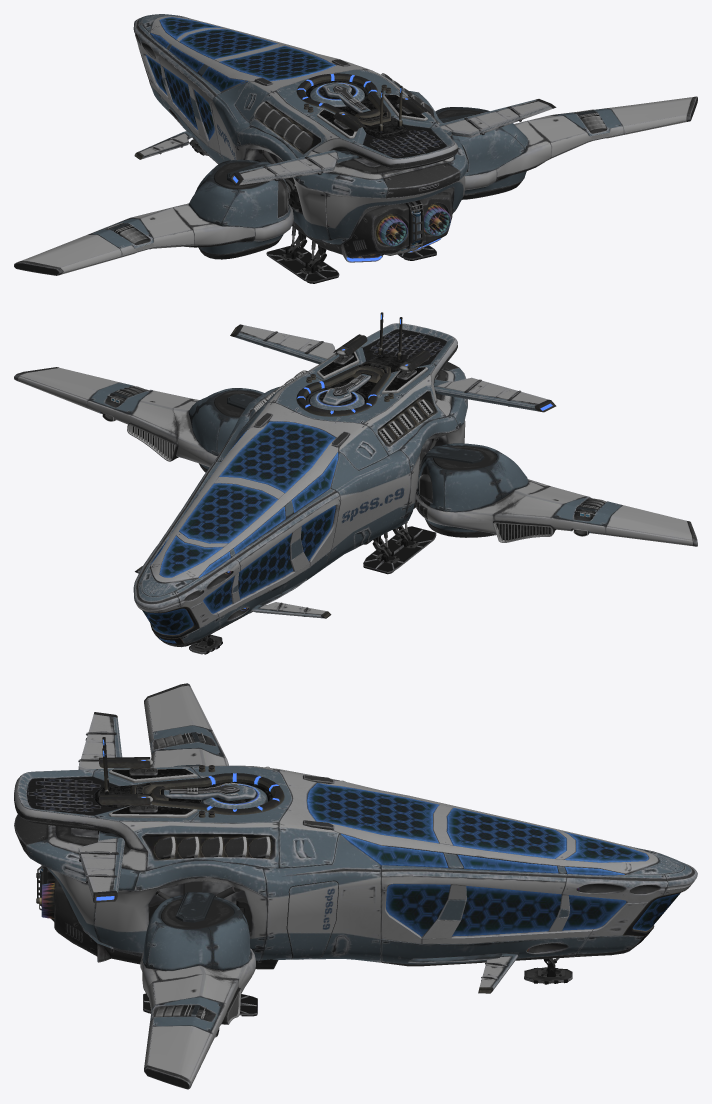
The model's file is spaceship-web.glb.
The picture shows the model from 3 angles, top to bottom: view 1: azimuth 30°, elevation 25°; view 2: azimuth 150°, elevation 25°; view 3: azimuth 270°, elevation 25°; orthographic projection. The views are drawn at different scales.
Parts seen in each view (by area): view 1: body_ext; view 2: body_ext; view 3: body_ext.
Part boxes in pixels (x1=…): body_ext: x1=14, y1=14, x2=697, y2=283; body_ext: x1=14, y1=312, x2=697, y2=654; body_ext: x1=14, y1=683, x2=697, y2=1089.
Size of the model in its own units: 24.45 by 6.76 by 17.66.
4 materials, 4 textured.
